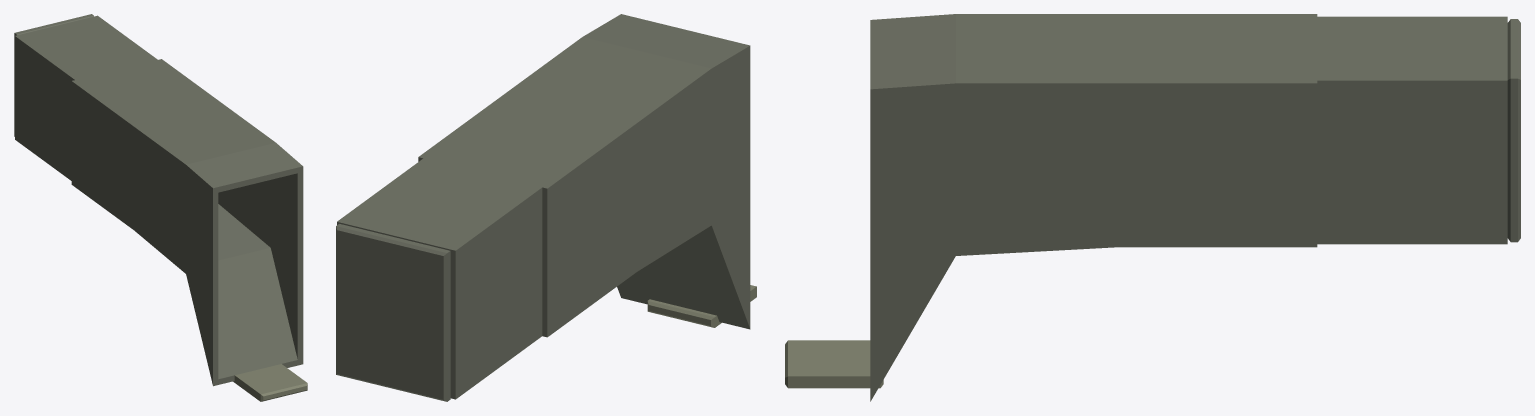
File: PistolHolster.fbx
3 renders of one model, left to right at view 1: azimuth 30°, elevation 25°; view 2: azimuth 150°, elevation 25°; view 3: azimuth 270°, elevation 25°, orthographic. The views are drawn at different scales.
Parts seen in each view (by area): view 1: PocketBack0__Leather, PocketSide2-1__Leather, PocketSide3-1__Leather, PocketSide1-1__Leather, PocketSide0-1__Leather, PocketSide01__Leather, PocketFront2__Leather, PocketFront3__Leather, PocketFront1__Leather, PocketFront0__Leather, PocketSide11__Leather, ChestTabs__Webbing (+4 smaller); view 2: PocketBottom__Leather, PocketSide2-1__Leather, PocketSide3-1__Leather, PocketSide1-1__Leather, PocketFront2__Leather, PocketSide0-1__Leather, PocketFront3__Leather, PocketFront1__Leather, PocketBack0__Leather, PocketFront0__Leather, ChestTabs__Webbing, PocketSide21__Leather (+3 smaller); view 3: PocketSide21__Leather, PocketSide31__Leather, PocketSide11__Leather, PocketSide01__Leather, PocketFront2__Leather, PocketFront3__Leather, PocketFront1__Leather, PocketFront0__Leather, ChestTabs__Webbing, PocketBottom__Leather, PocketSide3-1__Leather, PocketSide2-1__Leather (+1 smaller).
Boxes of the visible parts, <box> form: PocketBack0__Leather: <box>218,248,297,384</box>; PocketSide2-1__Leather: <box>71,79,138,229</box>; PocketSide3-1__Leather: <box>15,34,80,180</box>; PocketSide1-1__Leather: <box>134,125,190,273</box>; PocketSide0-1__Leather: <box>186,163,218,386</box>; PocketSide01__Leather: <box>270,143,303,365</box>; PocketFront2__Leather: <box>77,60,217,125</box>; PocketFront3__Leather: <box>20,17,152,78</box>; PocketFront1__Leather: <box>140,106,269,163</box>; PocketFront0__Leather: <box>192,144,297,192</box>; PocketSide11__Leather: <box>218,104,275,247</box>; ChestTabs__Webbing: <box>233,364,307,401</box>; PocketBottom__Leather: <box>336,224,450,401</box>; PocketSide2-1__Leather: <box>540,121,636,337</box>; PocketSide3-1__Leather: <box>448,185,542,399</box>; PocketSide1-1__Leather: <box>629,66,711,271</box>; PocketFront2__Leather: <box>426,93,628,186</box>; PocketSide0-1__Leather: <box>704,43,750,329</box>; PocketFront3__Leather: <box>344,160,534,249</box>; PocketFront1__Leather: <box>516,39,703,120</box>; PocketBack0__Leather: <box>622,229,742,327</box>; PocketFront0__Leather: <box>590,16,741,66</box>; ChestTabs__Webbing: <box>647,285,756,327</box>; PocketSide21__Leather: <box>418,91,515,161</box>; PocketSide21__Leather: <box>1120,79,1317,247</box>; PocketSide31__Leather: <box>1317,76,1507,244</box>; PocketSide11__Leather: <box>956,79,1119,255</box>; PocketSide01__Leather: <box>870,79,955,401</box>; PocketFront2__Leather: <box>1120,18,1317,79</box>; PocketFront3__Leather: <box>1317,21,1507,76</box>; PocketFront1__Leather: <box>956,18,1119,79</box>; PocketFront0__Leather: <box>870,18,955,85</box>; ChestTabs__Webbing: <box>785,340,883,388</box>; PocketBottom__Leather: <box>1507,19,1520,242</box>; PocketSide3-1__Leather: <box>1317,16,1507,20</box>; PocketSide2-1__Leather: <box>1120,14,1317,17</box>.
Size of the model in its own units: 0.05 by 0.108 by 0.224.
